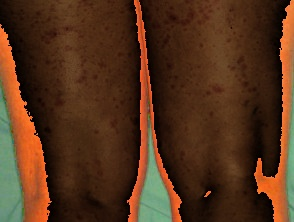SJS-TEN: (135, 0, 294, 222), (0, 0, 152, 222)
